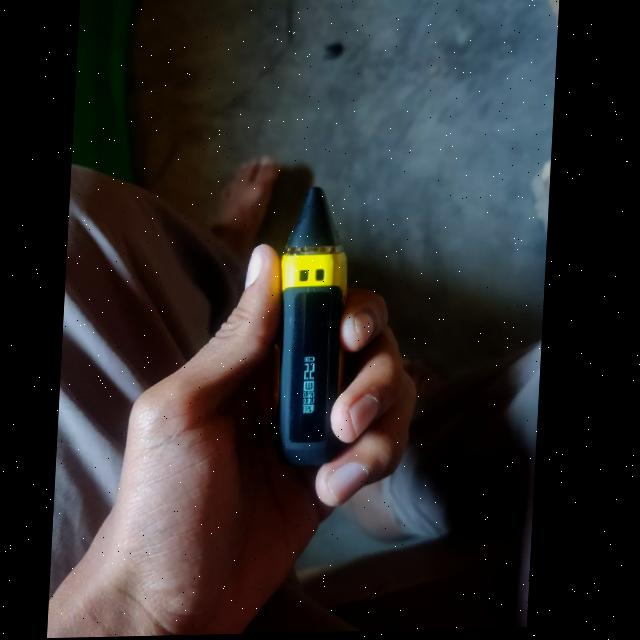vape: (276, 184, 357, 465)
